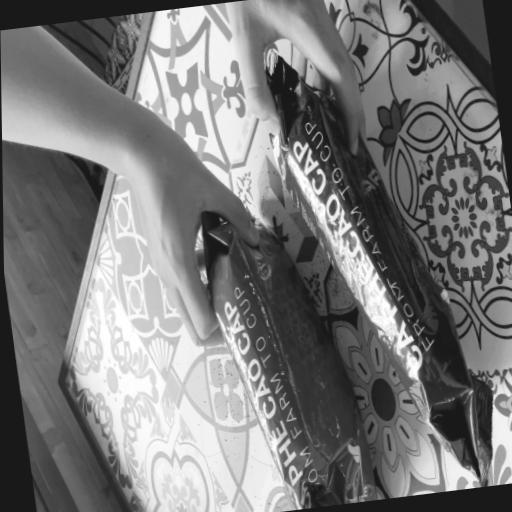cafe_hat: (266, 53, 492, 477)
cafe_xay: (202, 212, 378, 510)
